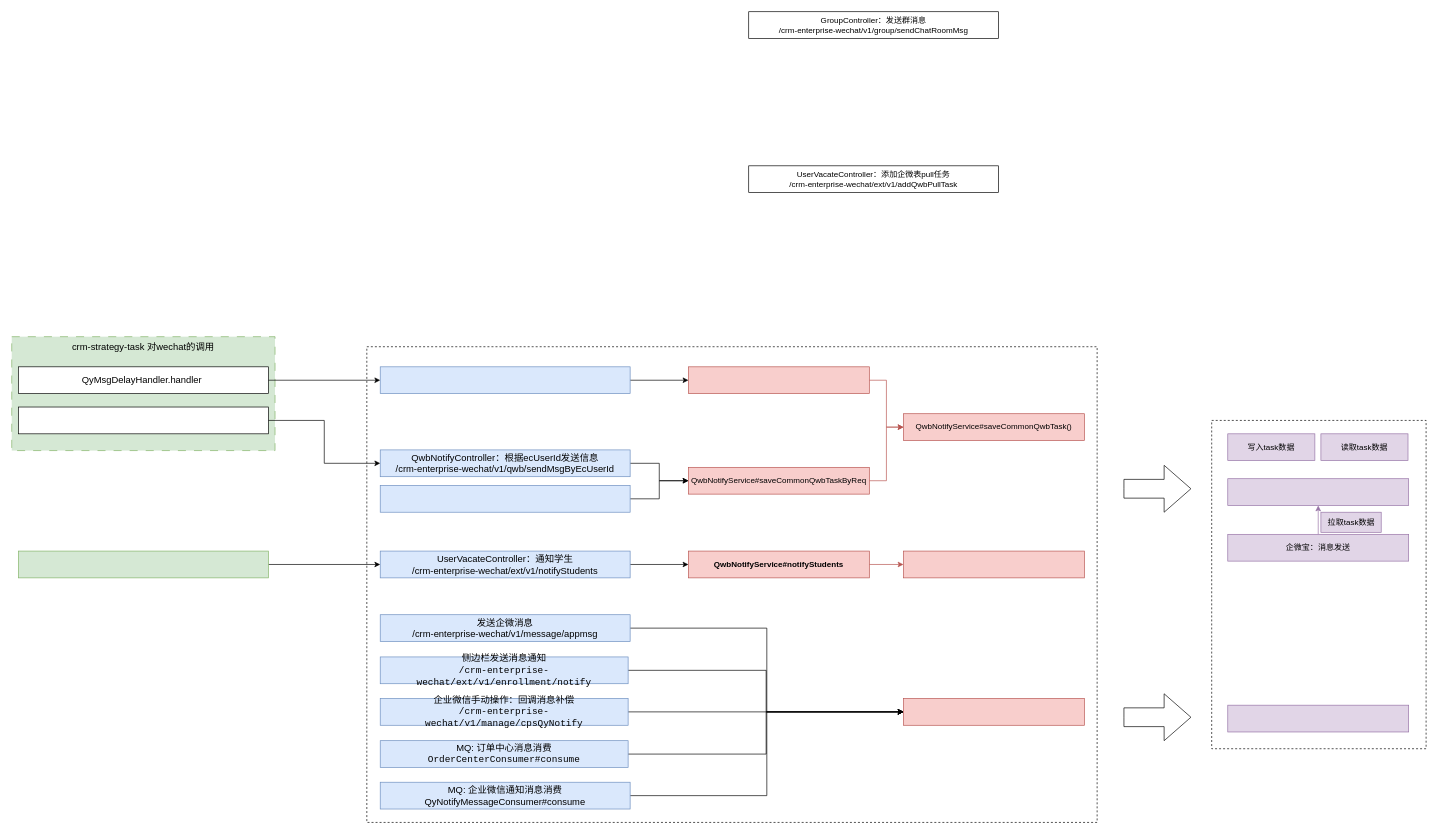
Image size: 1438x834. Some labels were removed from this diagram. Each missing label, with the centre of its shape:
"MQ: 延迟发送欢迎语消息 SendWelcomeMessageEventHandler#handler" goes at (x=505, y=498).
"QwbNotifyService#notifyCommon" goes at (x=778, y=380).
"QwbNotifyService#saveQwbTask" goes at (x=993, y=564).
"QyApiClientService#sendQyTextMessage" goes at (x=993, y=711).
"QyWelcomeMsgDelayHandler.handler" goes at (x=143, y=420).
"UserVacateController：通用消息通知 /crm-enterprise-wechat/ext/v1/notifyCommon" goes at (x=505, y=380).
"企业微信 /cgi-bin/message/send" goes at (x=1318, y=718).
"企微宝任务拉取的回调接口，由企微宝发起调用 /crm-enterprise-wechat/v1/qwb" goes at (x=1318, y=492).
"在线课堂：缺勤提醒/掉线提醒/开课提醒/补课提醒" goes at (x=143, y=564).
